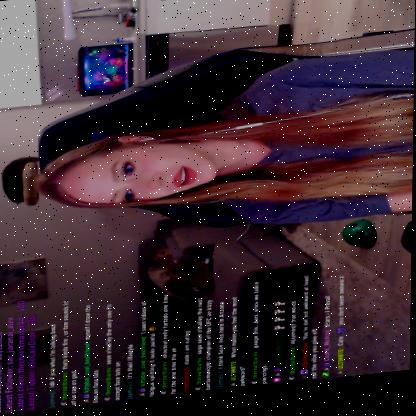streamer: (30, 55, 415, 255)
